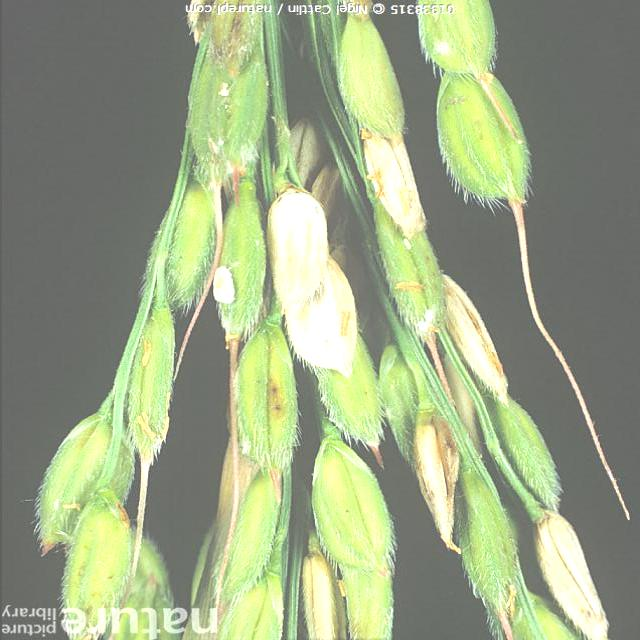Bacterial_Leaf_Blight: (262, 182, 362, 372), (530, 506, 612, 638), (439, 276, 506, 402), (410, 402, 460, 554), (360, 136, 424, 240), (297, 553, 335, 640)
